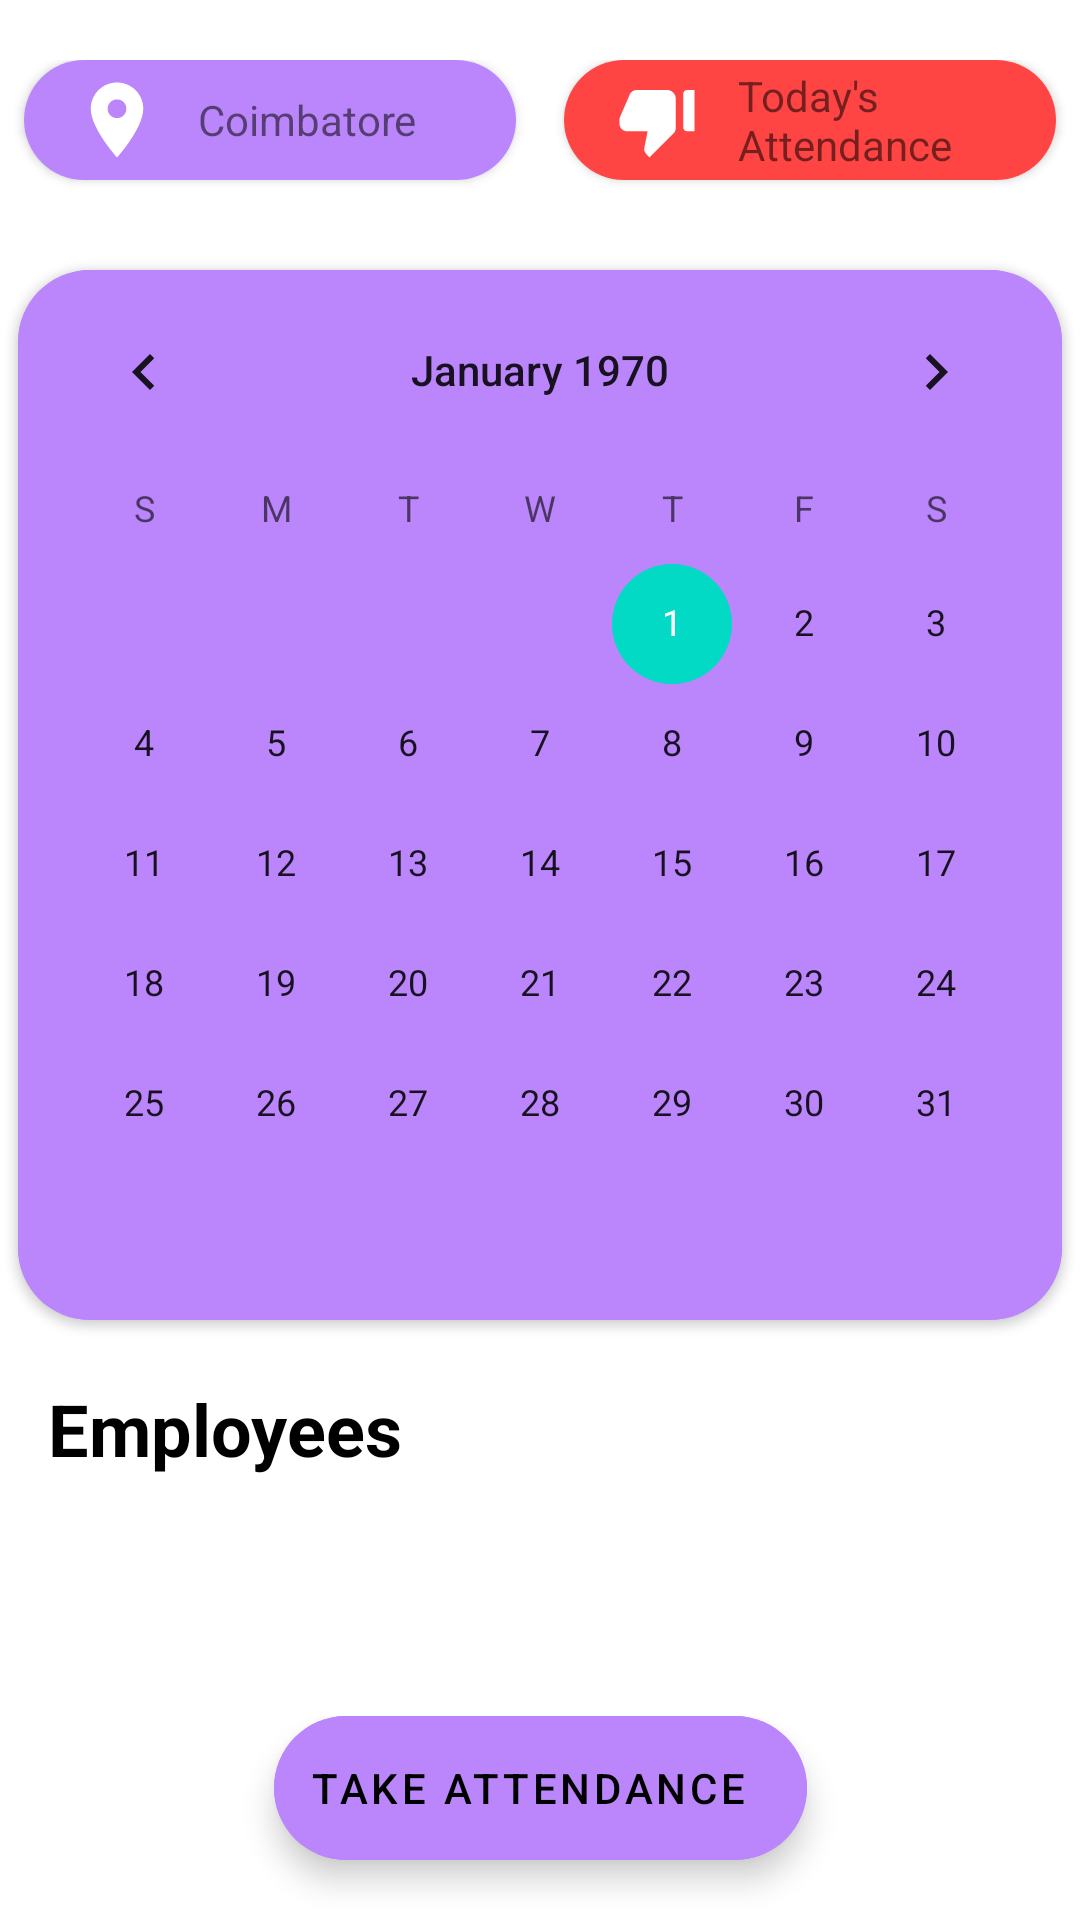

Icons on this 1080×1920 Android screen, each with the point to tap as (x,y):
location: (117,119)
thumb down: (657,124)
